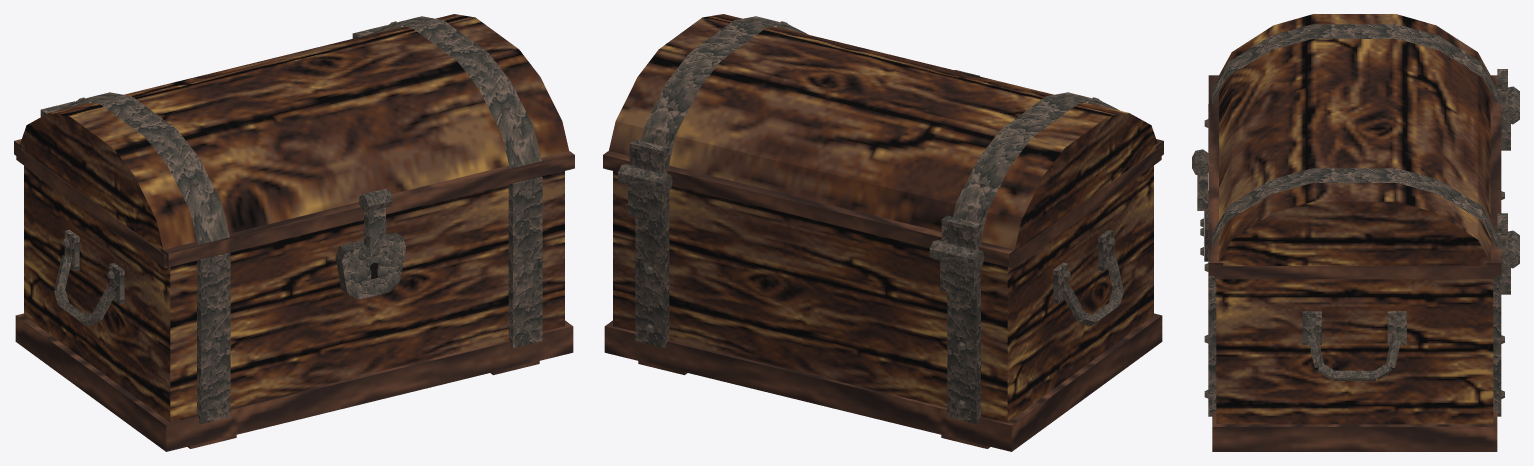
The model's file is Bau.glb.
3 views of the same model, side by side, from view 1: azimuth 30°, elevation 25°; view 2: azimuth 150°, elevation 25°; view 3: azimuth 270°, elevation 25° (orthographic). The views are drawn at different scales.
Parts seen in each view (by area): view 1: Tampa, Corpo, Travessa inferior, Cintas da tampa, Cintas do corpo, Fechadura, Alças, Fecho articulado; view 2: Tampa, Corpo, Travessa inferior, Cintas da tampa, Cintas do corpo, Dobradiças, Alças, Dobradiças da tampa; view 3: Tampa, Corpo, Cintas da tampa, Travessa inferior, Alças, Cintas do corpo, Dobradiças, Dobradiças da tampa, Fecho articulado, Fechadura.
Part boxes in pixels (x1,y1,x2,y2): Tampa: (14, 14, 574, 268); Corpo: (24, 166, 564, 422); Travessa inferior: (15, 313, 573, 451); Cintas da tampa: (58, 16, 541, 244); Cintas do corpo: (197, 176, 542, 424); Fechadura: (335, 232, 406, 299); Alças: (54, 229, 124, 325); Fecho articulado: (359, 188, 392, 250); Tampa: (603, 14, 1163, 268); Corpo: (613, 166, 1153, 422); Travessa inferior: (604, 313, 1162, 451); Cintas da tampa: (641, 16, 1119, 237); Cintas do corpo: (635, 191, 980, 424); Dobradiças: (618, 164, 984, 298); Alças: (1053, 229, 1123, 325); Dobradiças da tampa: (629, 139, 981, 249); Tampa: (1208, 14, 1501, 279); Corpo: (1216, 279, 1493, 424); Cintas da tampa: (1212, 24, 1497, 247); Travessa inferior: (1212, 412, 1497, 451); Alças: (1302, 311, 1406, 380); Cintas do corpo: (1208, 104, 1501, 416); Dobradiças: (1499, 86, 1519, 294); Dobradiças da tampa: (1497, 69, 1507, 260); Fecho articulado: (1192, 149, 1208, 210); Fechadura: (1200, 191, 1208, 261).
Size of the model in its own units: 1.21 by 0.713 by 0.8096.
Materials: 6 (6 with a texture image).
